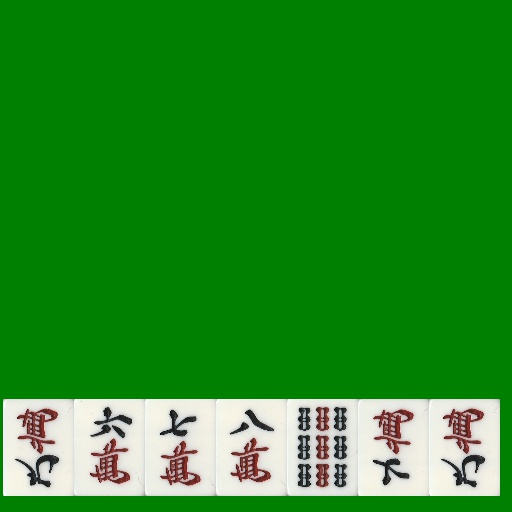6m: (74, 399, 145, 496)
7m: (145, 399, 216, 496), (358, 399, 429, 496)
8m: (216, 399, 287, 496)
9m: (3, 399, 74, 496), (429, 399, 500, 496)
9s: (287, 399, 358, 496)
